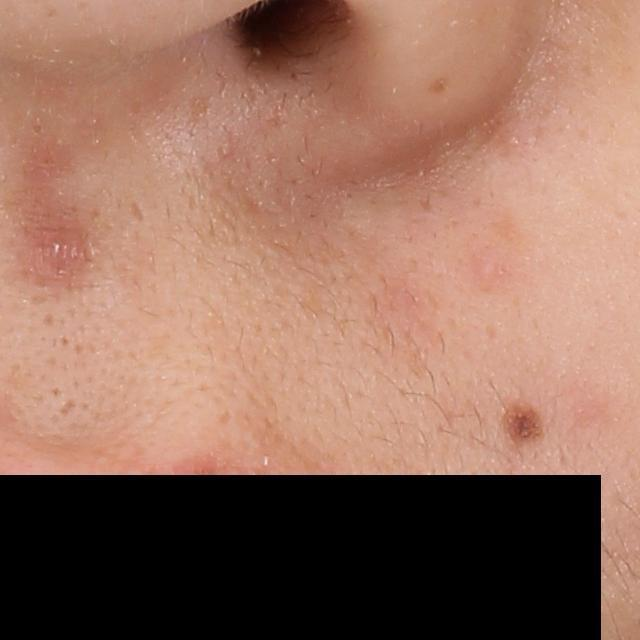atrophic_scar: (129, 194, 146, 225)
nevus: (496, 397, 547, 447)
papule: (31, 225, 91, 269)
